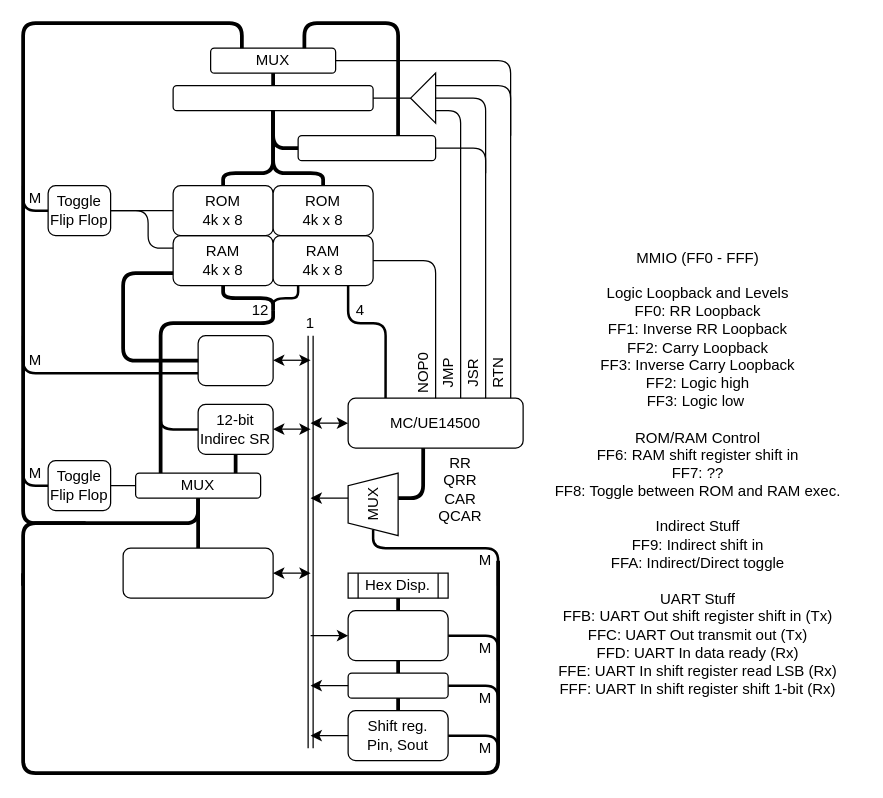
Image size: 883x798. Some labels were removed from this diagram. Here are the shapes that lost their labels. From the top down, the box of each, then its label:
(172, 84, 373, 111): 12-bit Program Counter
(297, 134, 436, 161): 12-bit RA Register
(197, 334, 273, 386): 8-bit RAM SR
(122, 547, 273, 598): 4k x 1 SRAM
(347, 609, 448, 661): Shift reg. Sin, Pout
(347, 672, 448, 698): UART
